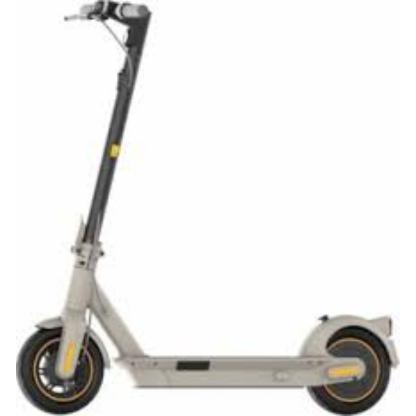bike: (14, 1, 397, 416)
